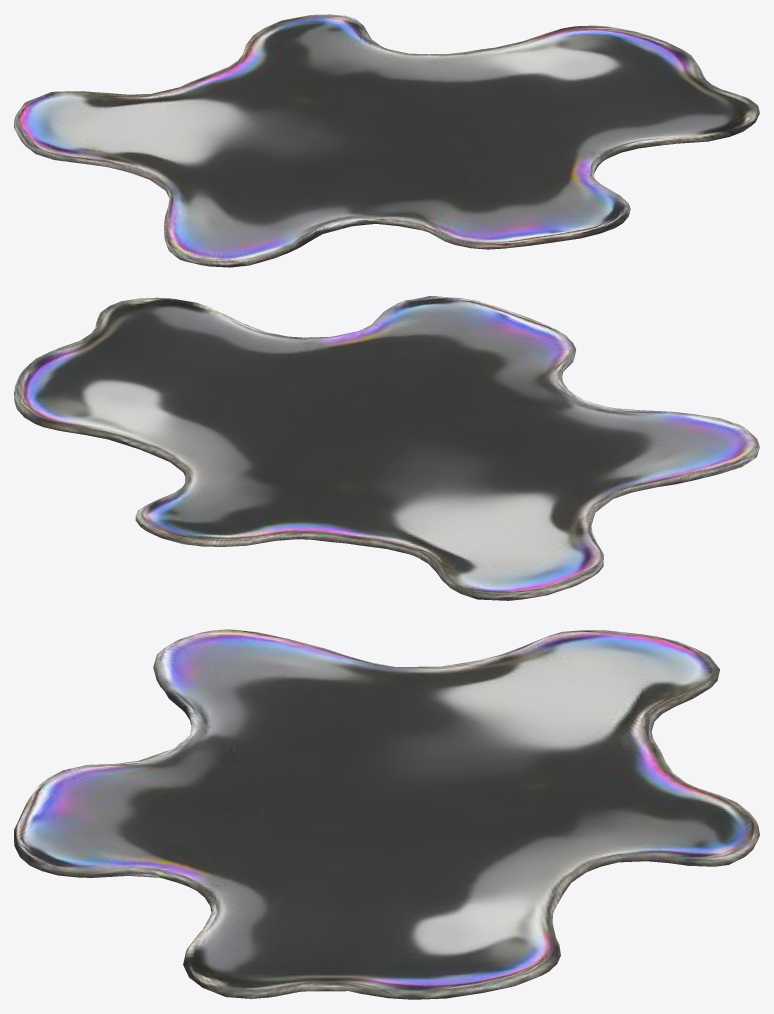
The model's file is oil-slick.glb.
3 renders of one model, top to bottom at view 1: azimuth 30°, elevation 25°; view 2: azimuth 150°, elevation 25°; view 3: azimuth 270°, elevation 25°, orthographic. The views are drawn at different scales.
Parts seen in each view (by area): view 1: model; view 2: model; view 3: model.
Boxes of the visible parts, x1,y1,x2,y2 form: model: (14,14,759,267); model: (14,296,759,600); model: (14,629,759,999).
Bounding box in the file's own units: 2 × 0.0226 × 1.73.
Materials: 1 (1 with a texture image).
